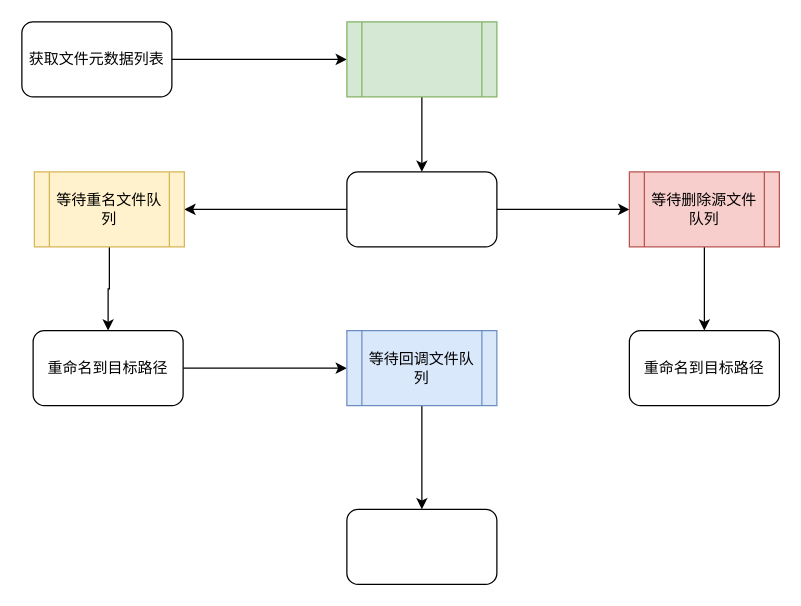
The diagram is 801 pixels wide and 606 high, and some of its shapes have lost their labels. Each missing label, with the centre of its shape:
"传输到临时文件" goes at (421,209).
"回调目标地址" goes at (421,546).
"等待传输文件队列" goes at (421,59).
